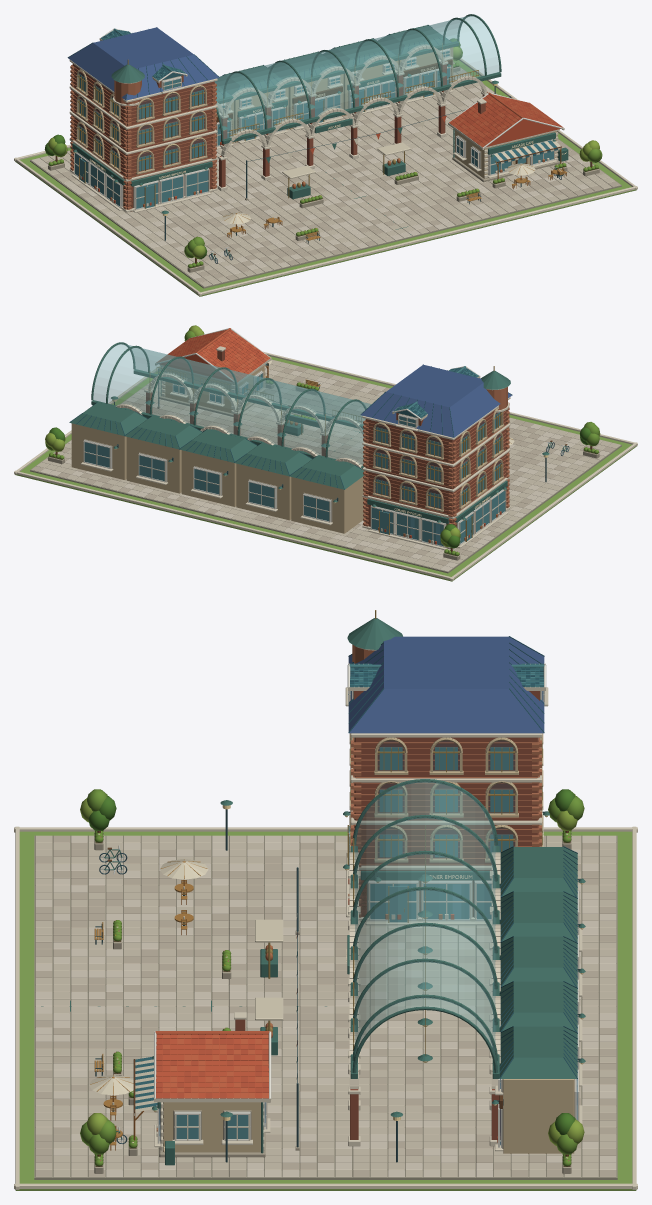
Rendered from level-4.glb.
3 renders of one model, top to bottom at view 1: azimuth 30°, elevation 25°; view 2: azimuth 150°, elevation 25°; view 3: azimuth 270°, elevation 25°, orthographic. The views are drawn at different scales.
Visible parts, largest first — view 1: finance_level_4_geometry; view 2: finance_level_4_geometry; view 3: finance_level_4_geometry.
Part boxes in pixels (x1,y1,x2,y2): finance_level_4_geometry: (14, 14, 637, 296); finance_level_4_geometry: (14, 325, 637, 581); finance_level_4_geometry: (14, 610, 637, 1190).
Bounding box in the file's own units: 60 × 19.65 × 44.
